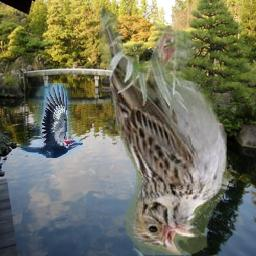Sparrow: (99, 3, 227, 255)
Woodpecker: (19, 84, 83, 159)
